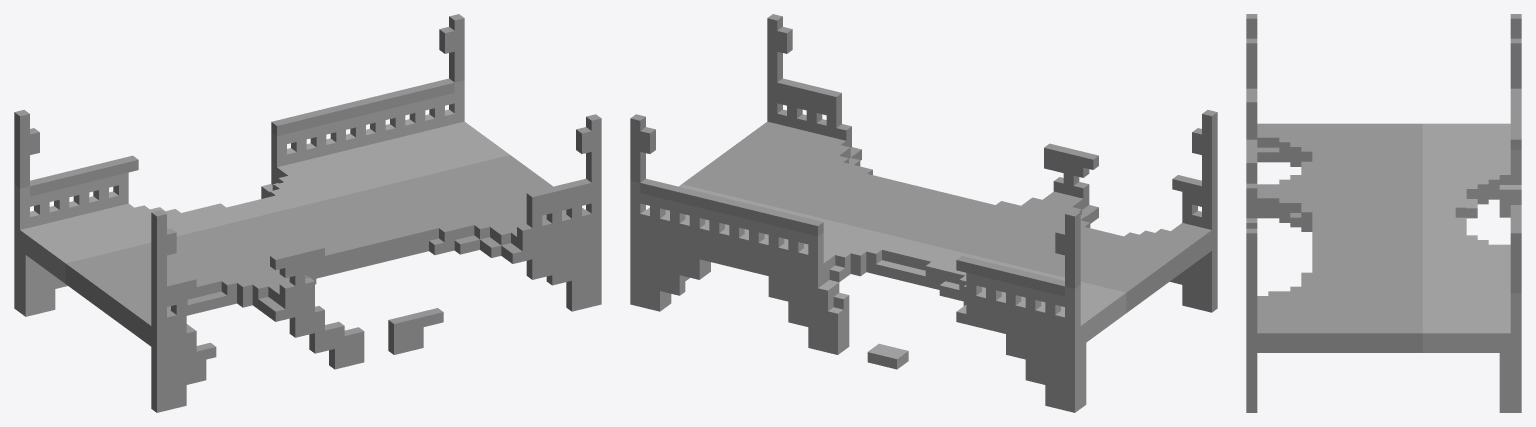
The model's file is church6-19.obj.
3 views of the same model, side by side, from view 1: azimuth 30°, elevation 25°; view 2: azimuth 150°, elevation 25°; view 3: azimuth 270°, elevation 25° (orthographic). The views are drawn at different scales.
Parts seen in each view (by area): view 1: church6-19; view 2: church6-19; view 3: church6-19.
Boxes of the visible parts, x1,y1,x2,y2 form: church6-19: (14,14,601,412); church6-19: (630,14,1217,412); church6-19: (1246,14,1521,412).
Bounding box in the file's own units: 45 × 19 × 25.
Materials: 1 (1 with a texture image).
